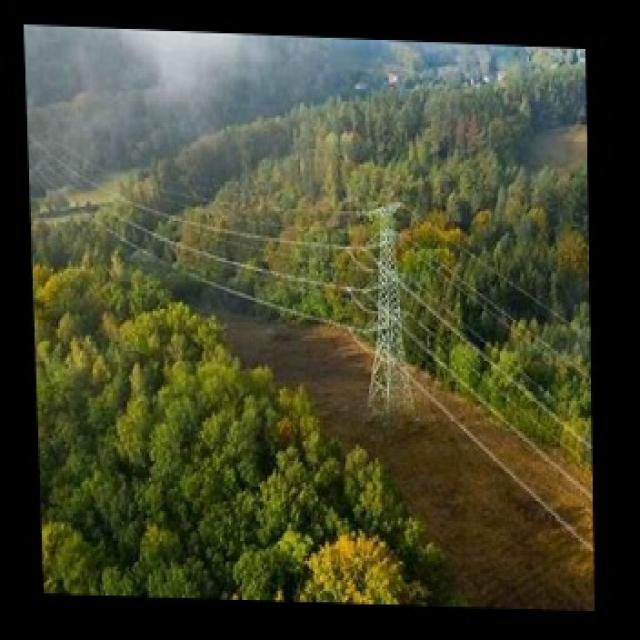utility poles: (346, 186, 449, 423)
